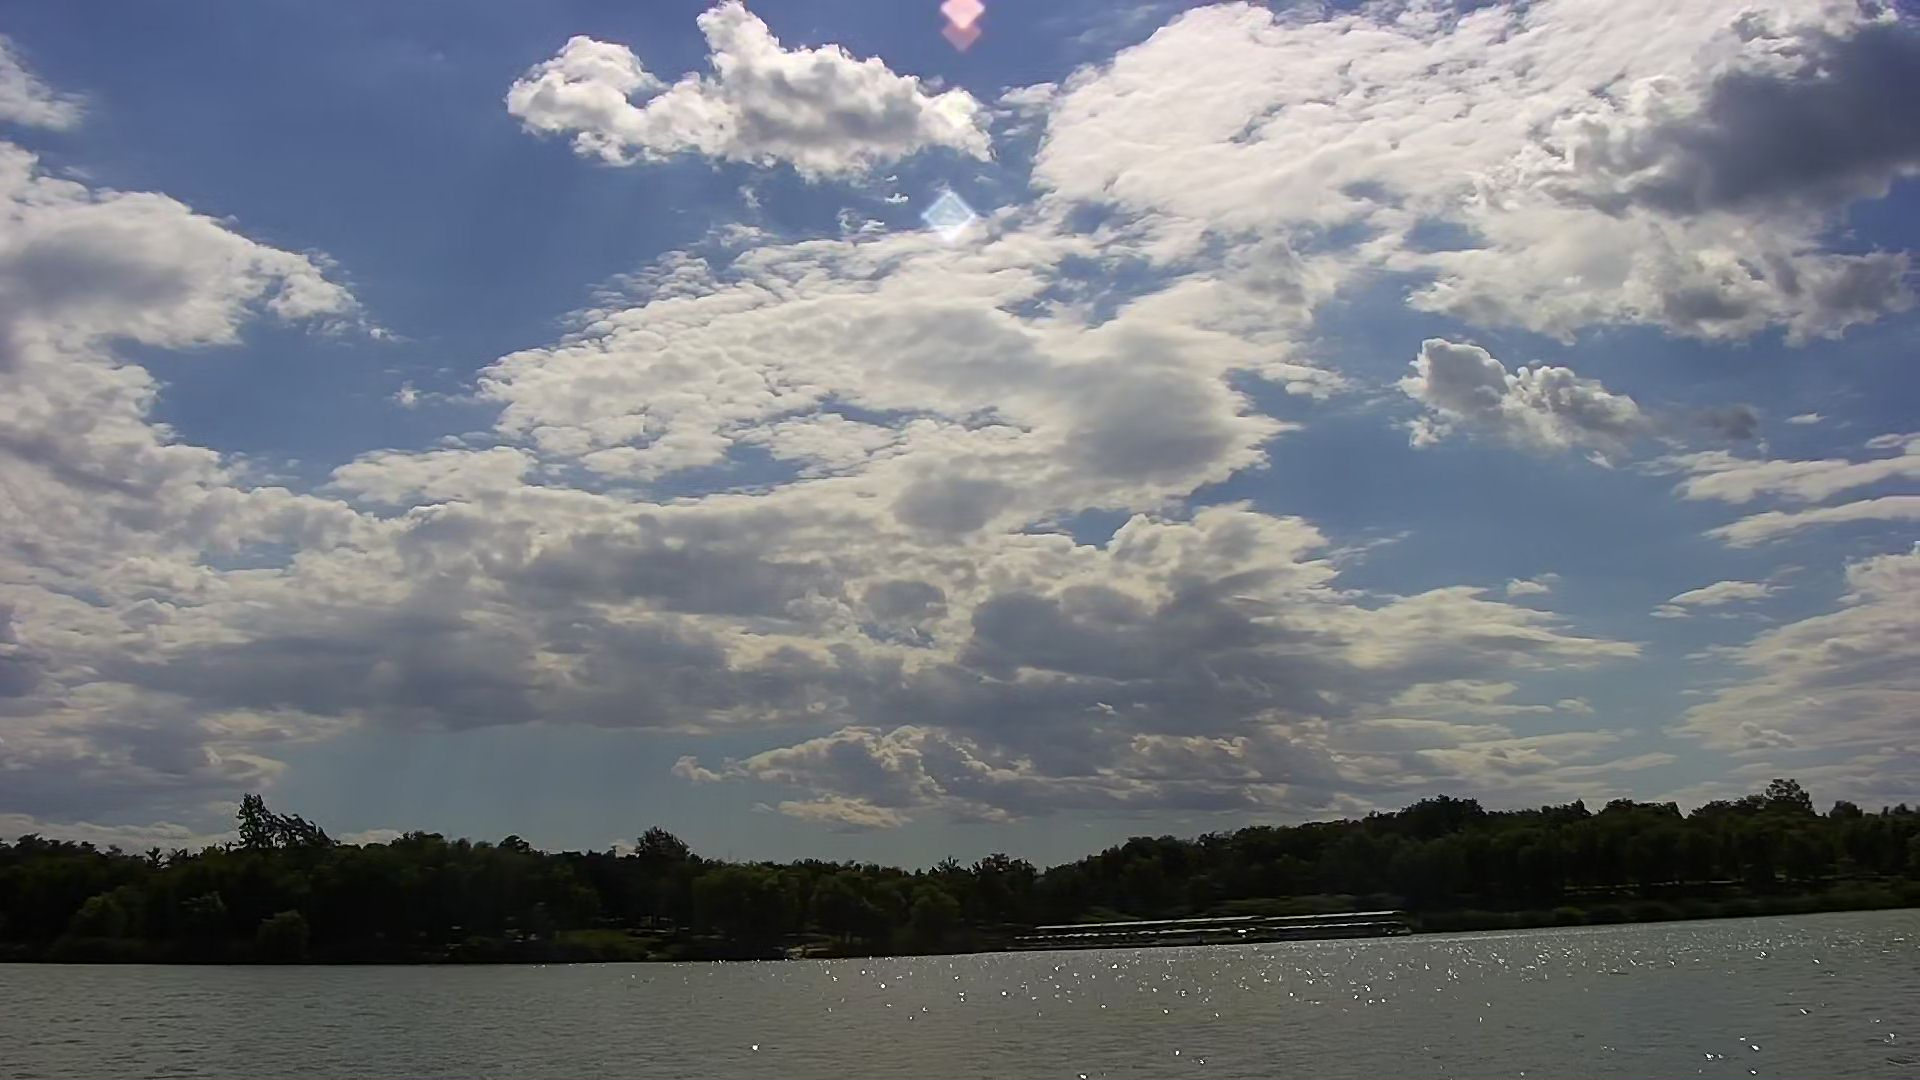harbor: (992, 899, 1441, 957)
